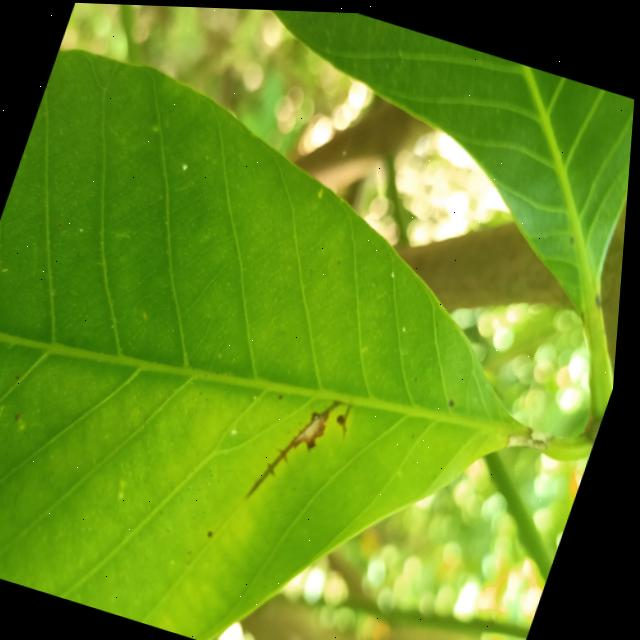Corynespora: (252, 379, 362, 515)
